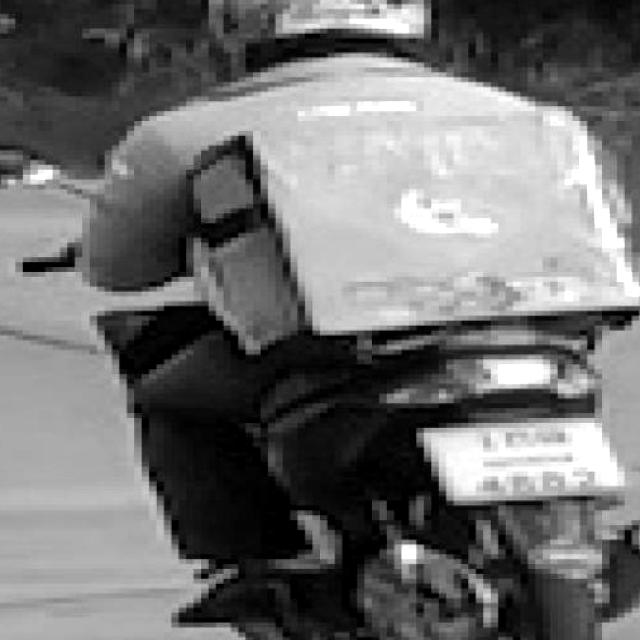letters: (474, 464, 501, 498), (571, 466, 598, 492), (507, 422, 535, 447), (543, 468, 567, 493), (543, 422, 567, 447), (475, 427, 492, 451), (513, 475, 533, 492)
license-plate: (423, 420, 640, 507)
province: (477, 448, 583, 467)
